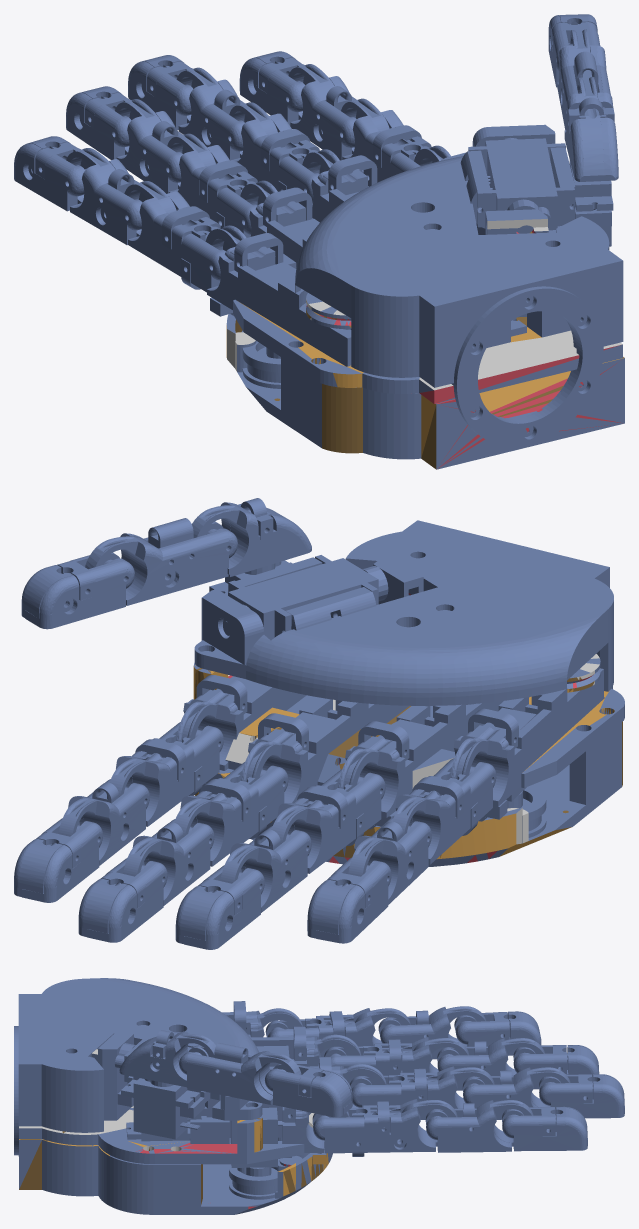
File: prueba.glb
3 renders of one model, top to bottom at view 1: azimuth 30°, elevation 25°; view 2: azimuth 150°, elevation 25°; view 3: azimuth 270°, elevation 25°, orthographic. The views are drawn at different scales.
Parts seen in each view (by area): view 1: Mesh_Mesh_head_geo.001_lambert2SG.001; view 2: Mesh_Mesh_head_geo.001_lambert2SG.001; view 3: Mesh_Mesh_head_geo.001_lambert2SG.001.
Boxes of the visible parts, x1,y1,x2,y2 form: Mesh_Mesh_head_geo.001_lambert2SG.001: (14, 14, 624, 469); Mesh_Mesh_head_geo.001_lambert2SG.001: (14, 498, 624, 949); Mesh_Mesh_head_geo.001_lambert2SG.001: (14, 978, 624, 1214).
Size of the model in its own units: 172 by 87.01 by 264.
